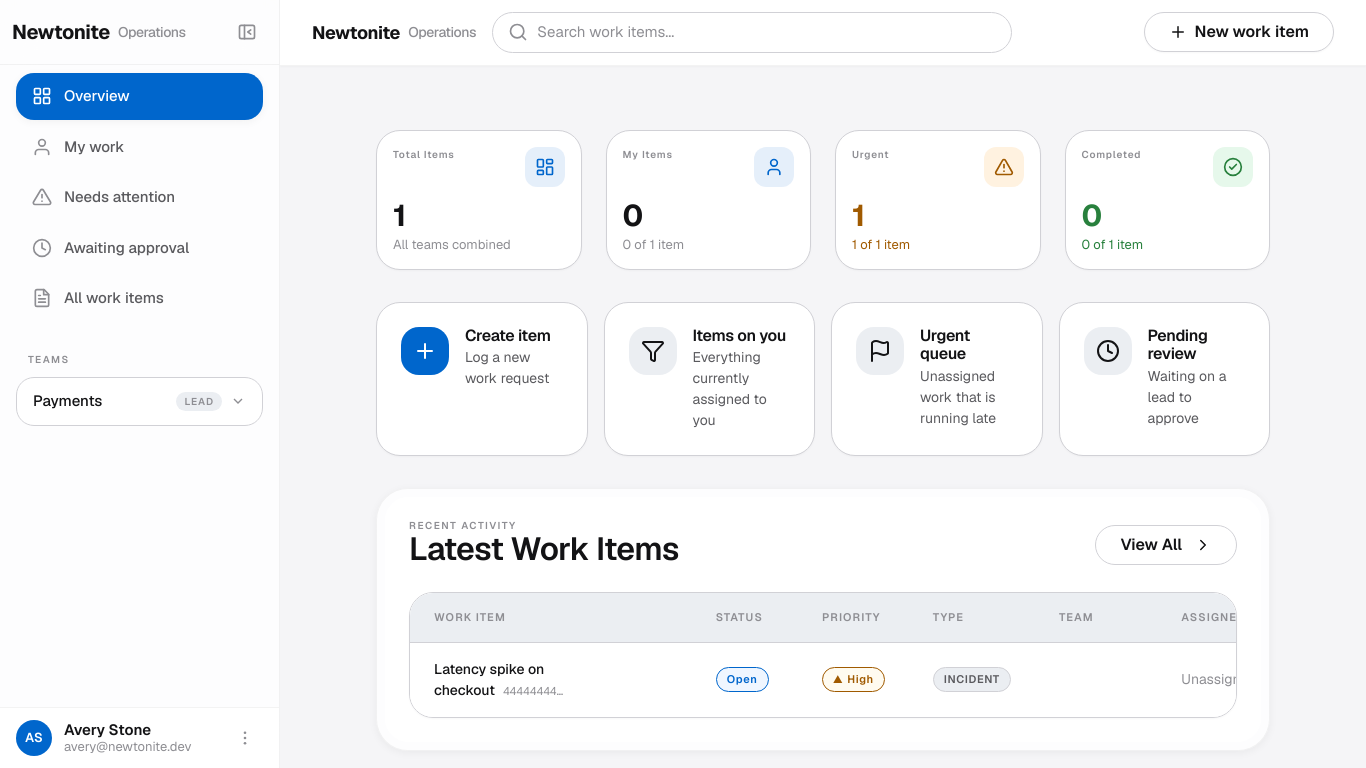
AppShell navigation › closes the account menu on Escape
This screenshot has width=1366, height=768.
Expected: the text "Overview" is shown, [64,85,130,108]
Click the button named "open account menu". click: (245,738)
box: [227,720,263,756]
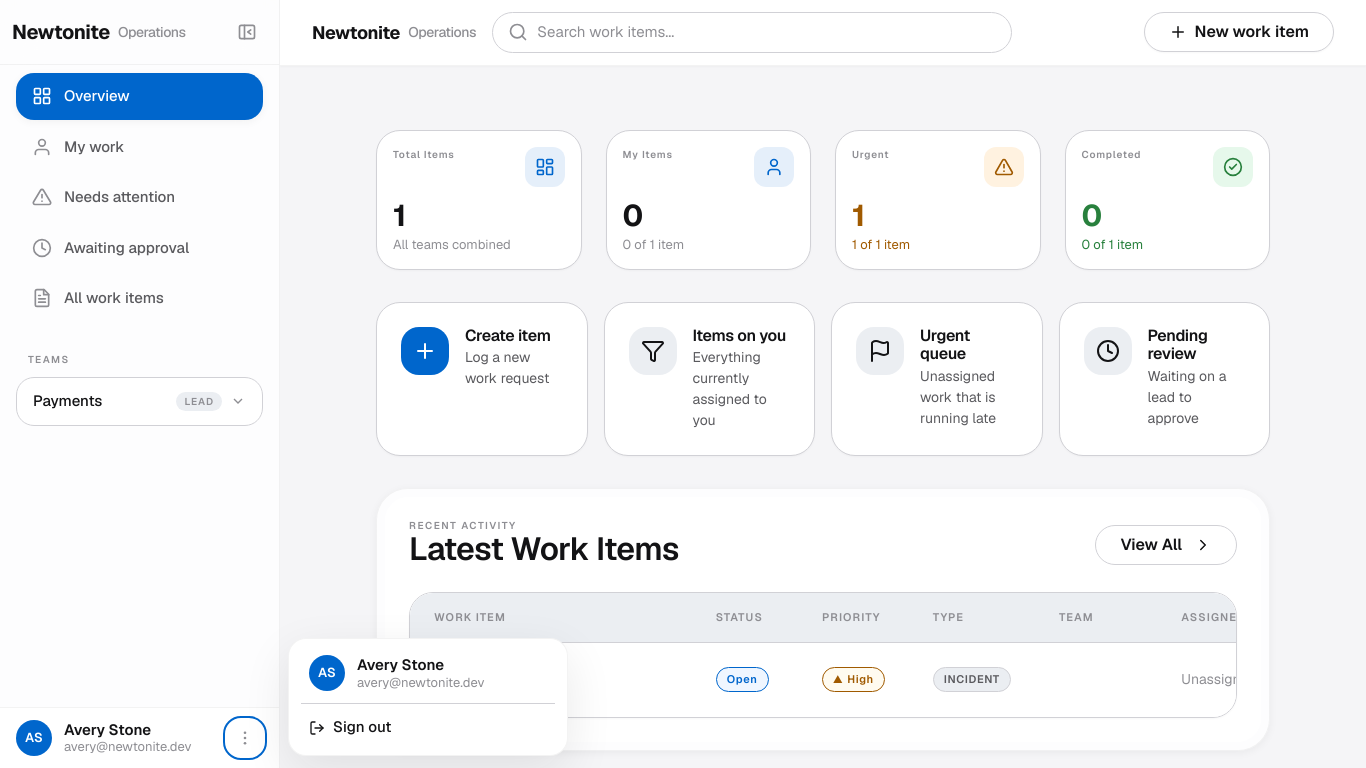
Expected: the menu is shown, [288,638,568,756]
Press Escape
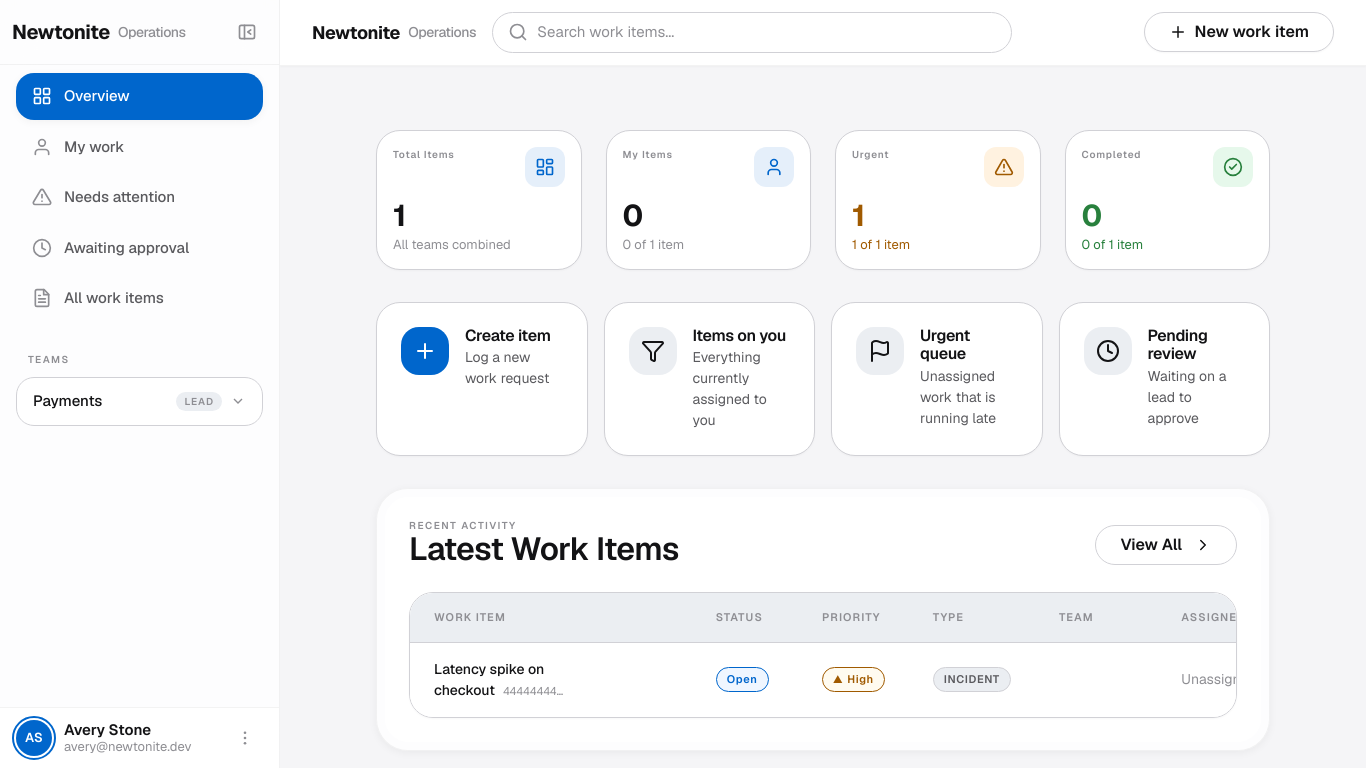
Expected: the menu is gone
